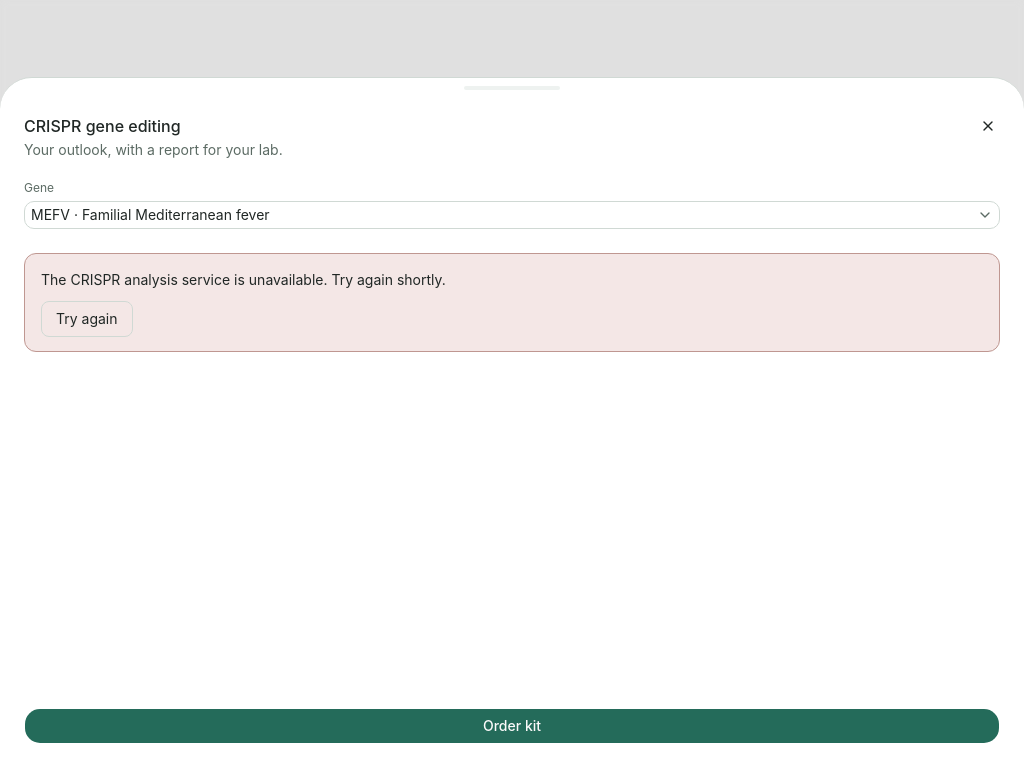
explains a failure and retries it
expect the message shows "CRISPR analysis service is unavailable": met, box [41, 270, 446, 287]
Click the button "Try again": x=87, y=318 [41, 300, 132, 336]
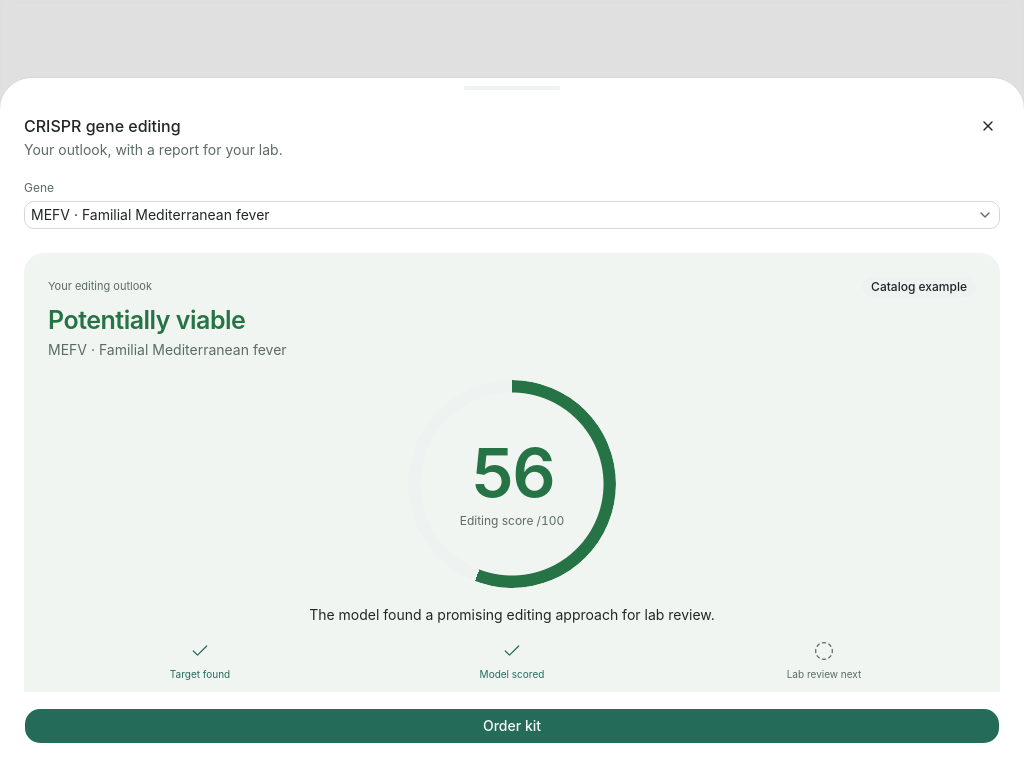
expect the heading "Potentially viable" is shown: met, box [48, 304, 245, 334]
expect the message "The CRISPR analysis service is unavailable. Try again shortly. Try again" is gone: met
